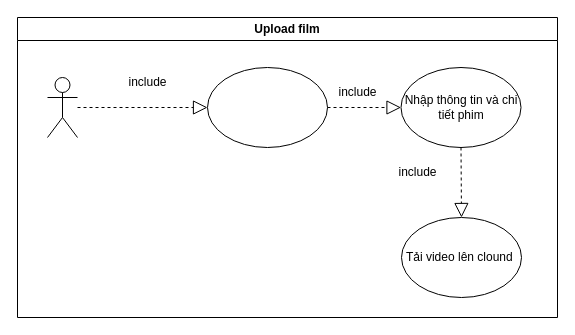
Image size: 575x335. Some labels were removed from this diagram. Here are the shapes that lost their labels. From the top down, the box of each, then its label:
(46, 76, 78, 138): Admin
(206, 66, 328, 148): Đăng nhập
